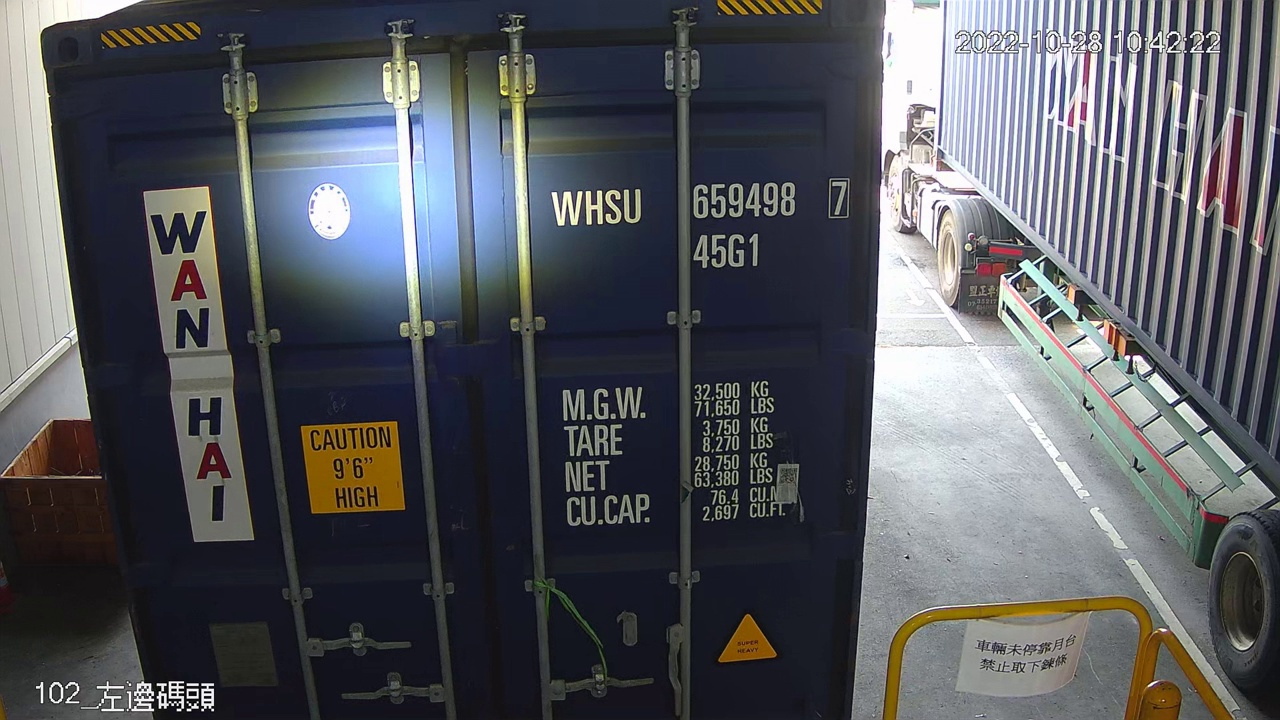container: (547, 172, 858, 274)
